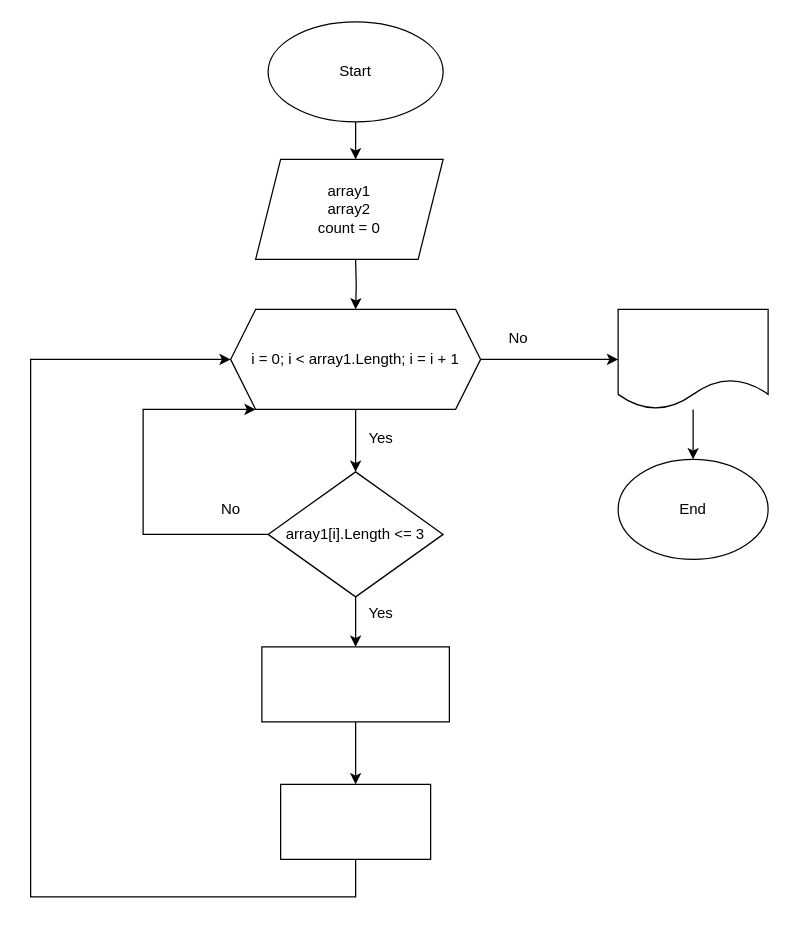
Image size: 790x929. Some labels were removed from this diagram. The shapes that lost their labels are listed below. From the top down, each one's centre as x and y in pixels, then its label:
the point at 692,358: PrintArray(array2)
the point at 355,684: array2[count] = array1[i]
the point at 355,821: count = count +1
